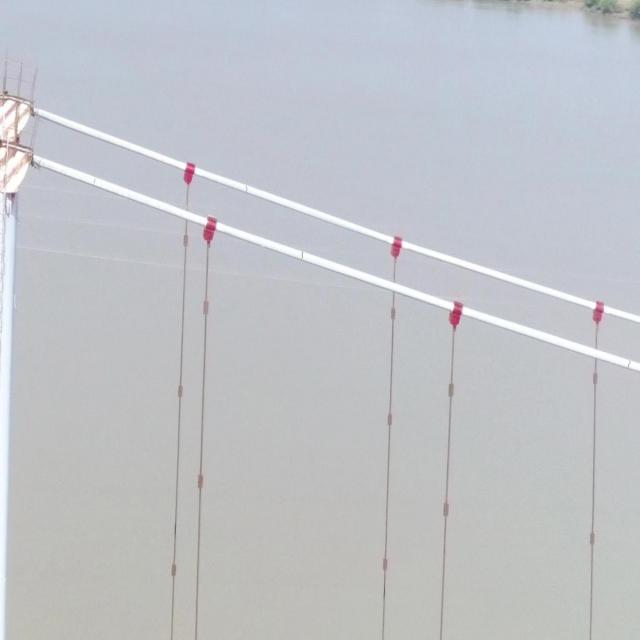crack: (300, 251, 304, 260), (93, 178, 97, 185), (627, 361, 631, 368), (245, 186, 248, 193)
